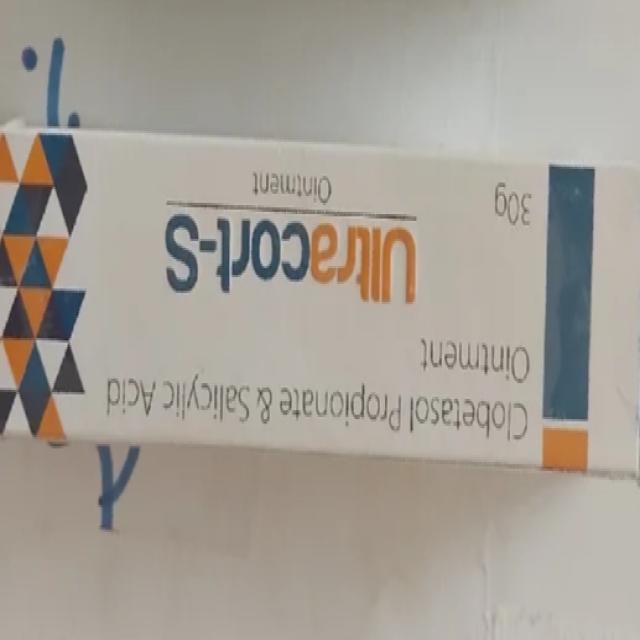drug-name: (156, 204, 428, 310)
